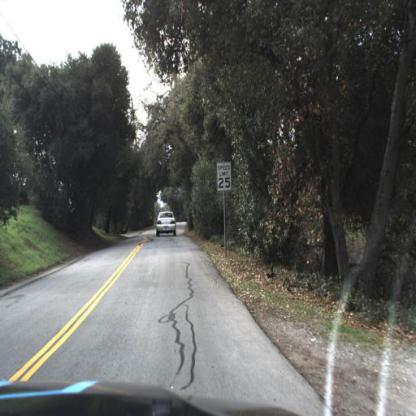car: (154, 207, 179, 239)
